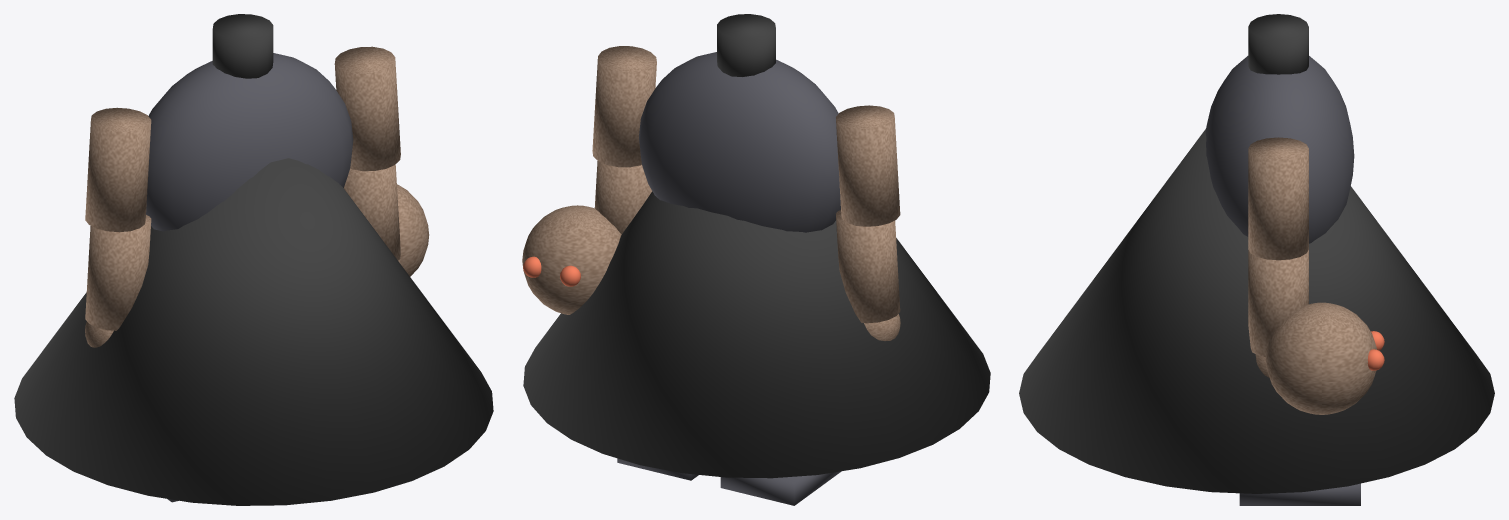
File: dullahan.glb
The picture shows the model from 3 angles, left to right: view 1: azimuth 30°, elevation 25°; view 2: azimuth 150°, elevation 25°; view 3: azimuth 270°, elevation 25°; orthographic projection. The views are drawn at different scales.
Parts seen in each view (by area): view 1: Cloak, Torso, UpperArmL, UpperArmR, ForearmL, NeckStump, ForearmR, HeldHead; view 2: Cloak, Torso, HeldHead, UpperArmL, UpperArmR, ForearmL, NeckStump, ForearmR, FootL, HandL; view 3: Cloak, Torso, HeldHead, UpperArmR, ForearmR, NeckStump, FootR.
Boxes of the visible parts, x1,y1,x2,y2 form: Cloak: [14, 158, 493, 505]; Torso: [146, 53, 353, 231]; UpperArmL: [85, 107, 151, 232]; UpperArmR: [334, 46, 400, 171]; ForearmL: [85, 215, 151, 330]; NeckStump: [212, 14, 273, 78]; ForearmR: [344, 164, 400, 260]; HeldHead: [397, 184, 429, 276]; Cloak: [523, 191, 990, 478]; Torso: [639, 52, 840, 232]; HeldHead: [522, 205, 621, 314]; UpperArmL: [836, 105, 900, 226]; UpperArmR: [592, 46, 656, 167]; ForearmL: [836, 210, 900, 323]; NeckStump: [717, 14, 775, 76]; ForearmR: [594, 161, 652, 234]; FootL: [720, 471, 841, 505]; HandL: [864, 314, 900, 340]; Cloak: [1019, 129, 1494, 493]; Torso: [1205, 56, 1354, 243]; HeldHead: [1265, 302, 1376, 414]; UpperArmR: [1248, 137, 1308, 260]; ForearmR: [1248, 249, 1308, 357]; NeckStump: [1248, 14, 1308, 74]; FootR: [1239, 483, 1360, 505].
Bounding box in the file's own units: 0.8594 × 0.8672 × 0.8594.
5 materials, 1 textured.
